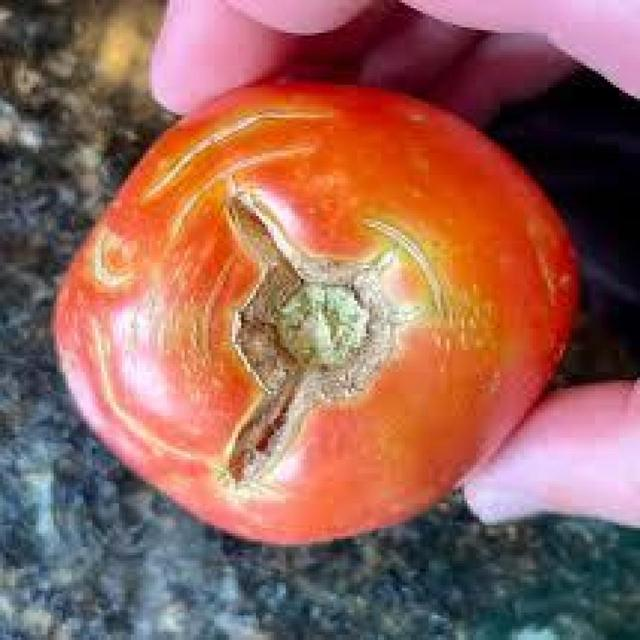Cracking Fruit: (127, 56, 212, 244)
